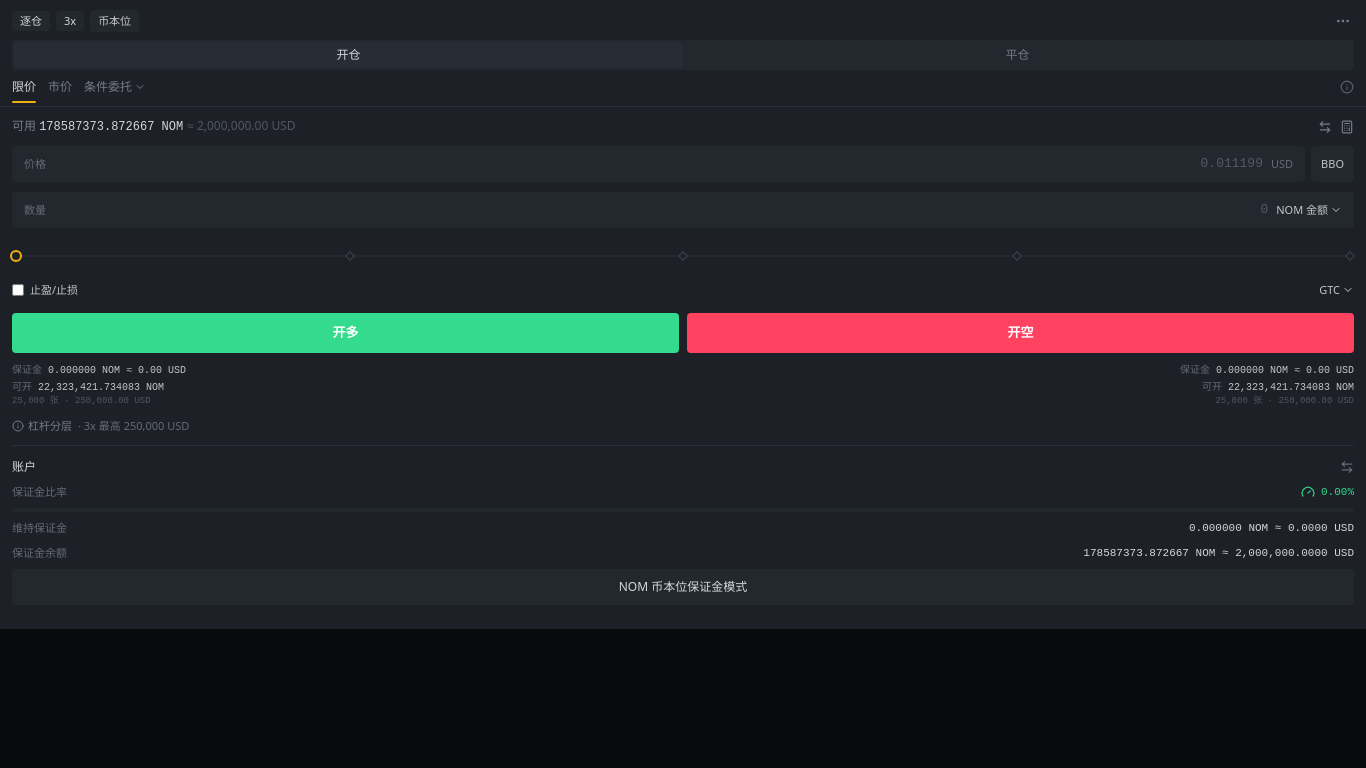
Test: 条件委托按触发价折算 › 【回归】切走后不得出现「框里正是提示要的数、按钮却是灰的」
The image size is (1366, 768).
Click the button with test id "advanced-type-slot".
click(115, 90)  # box [84,78,146,102]
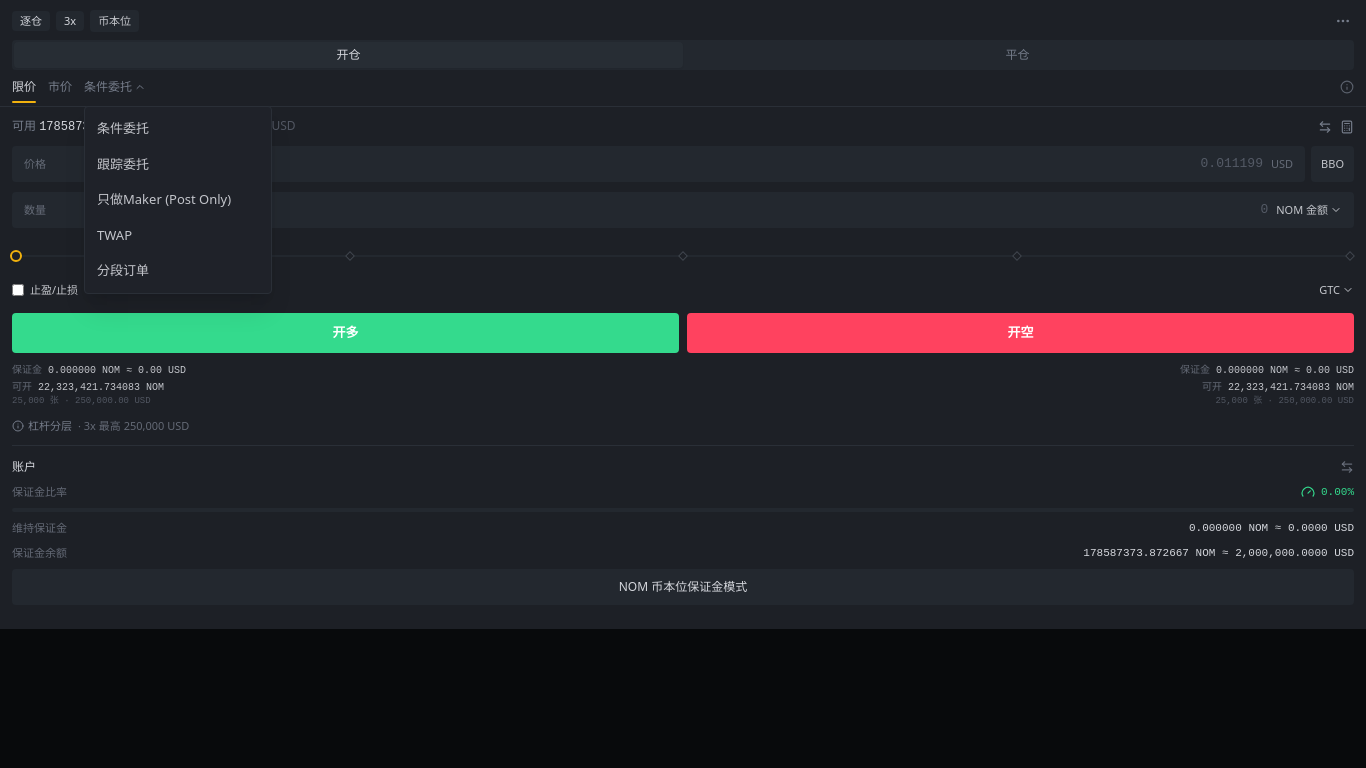
Click the 2nd button "条件委托".
click(178, 129)  # box [85,111,271,146]
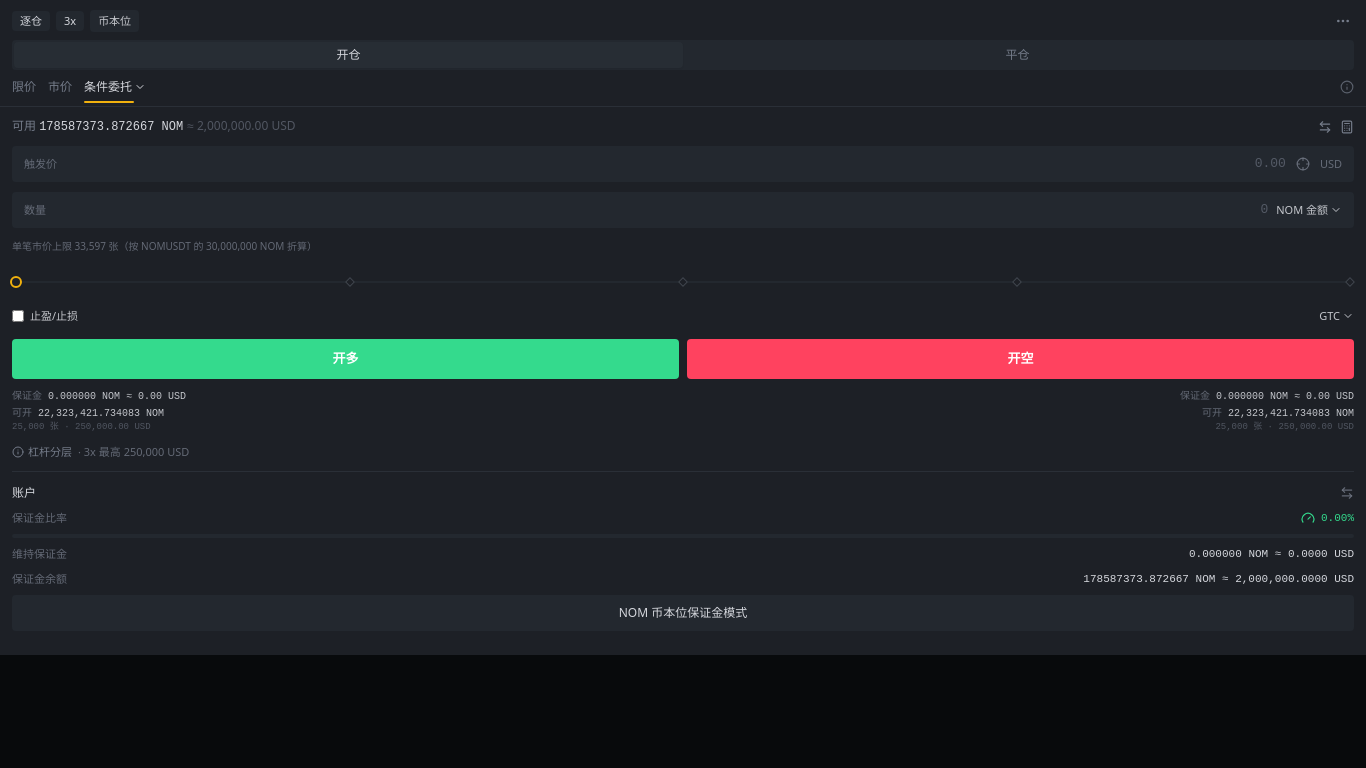
Type "0.0125" into the field with test id "order-trigger-price".
click(675, 164); type("0.0125")  # box [65,154,1286,174]
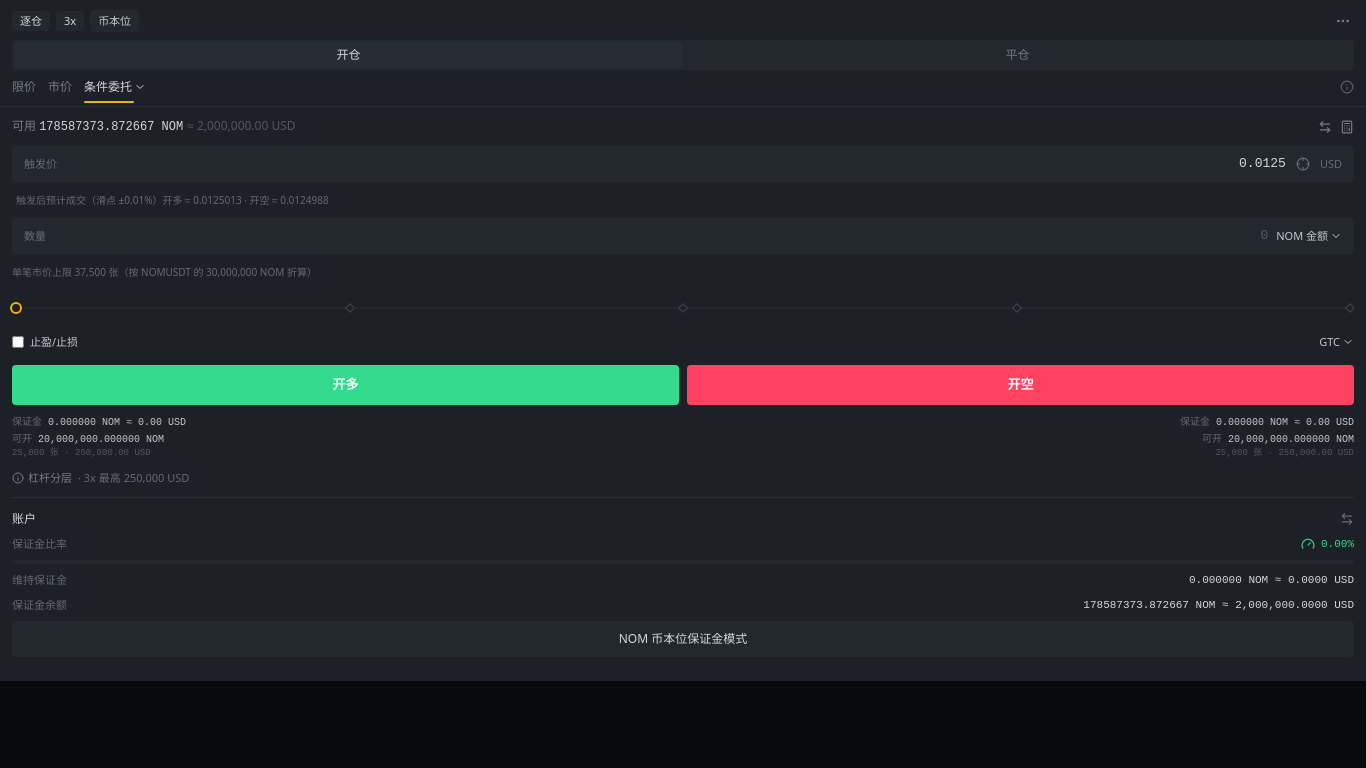
Type "800" into the field with test id "order-qty-input".
click(661, 236); type("800")  # box [54,226,1268,246]
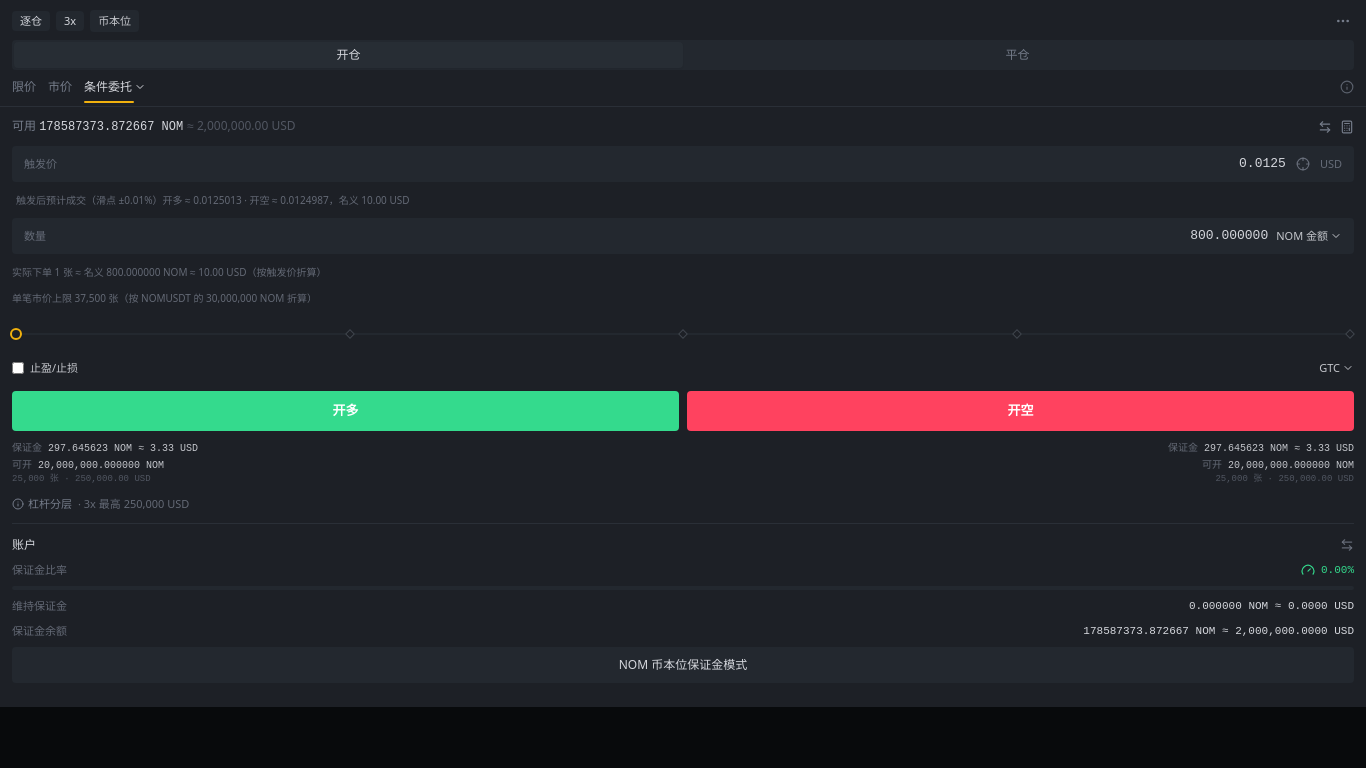
Expected: the text with test id "coin-effective-qty-hint" shows "实际下单 1 张", [12,265,326,279]
Click the button with test id "advanced-type-slot".
click(115, 90)  # box [84,78,146,102]
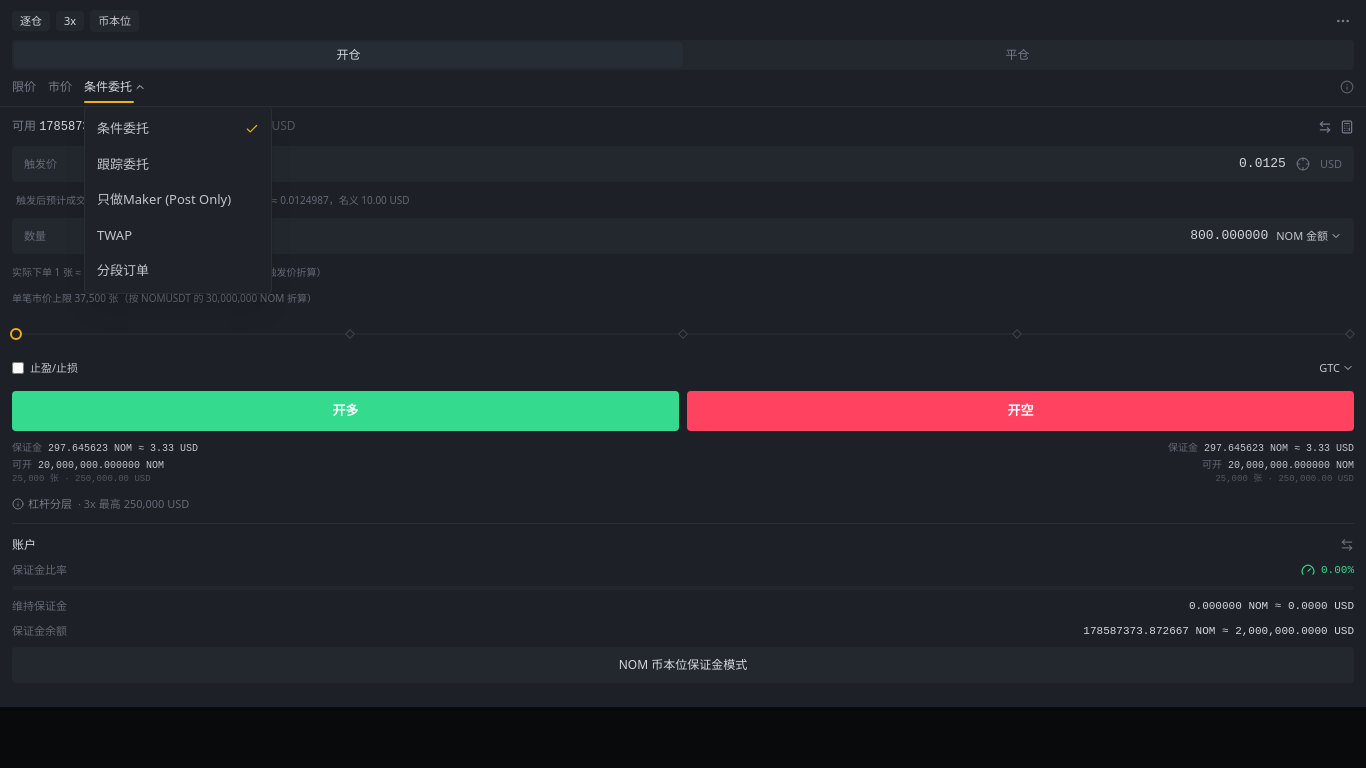
Click the button "跟踪委托".
click(178, 164)  # box [85,146,271,182]
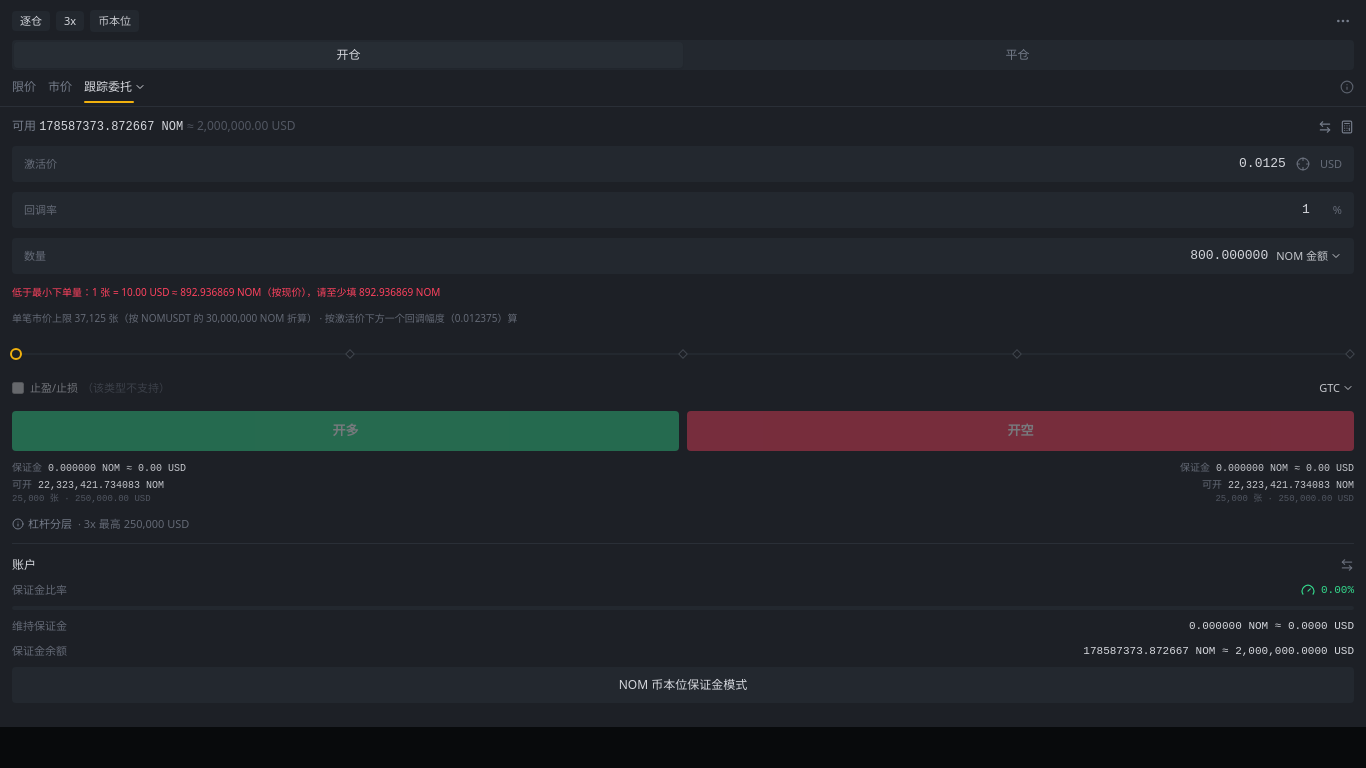
Expected: the text with test id "coin-min-order-hint" shows "892.936869", [359,285,413,299]
